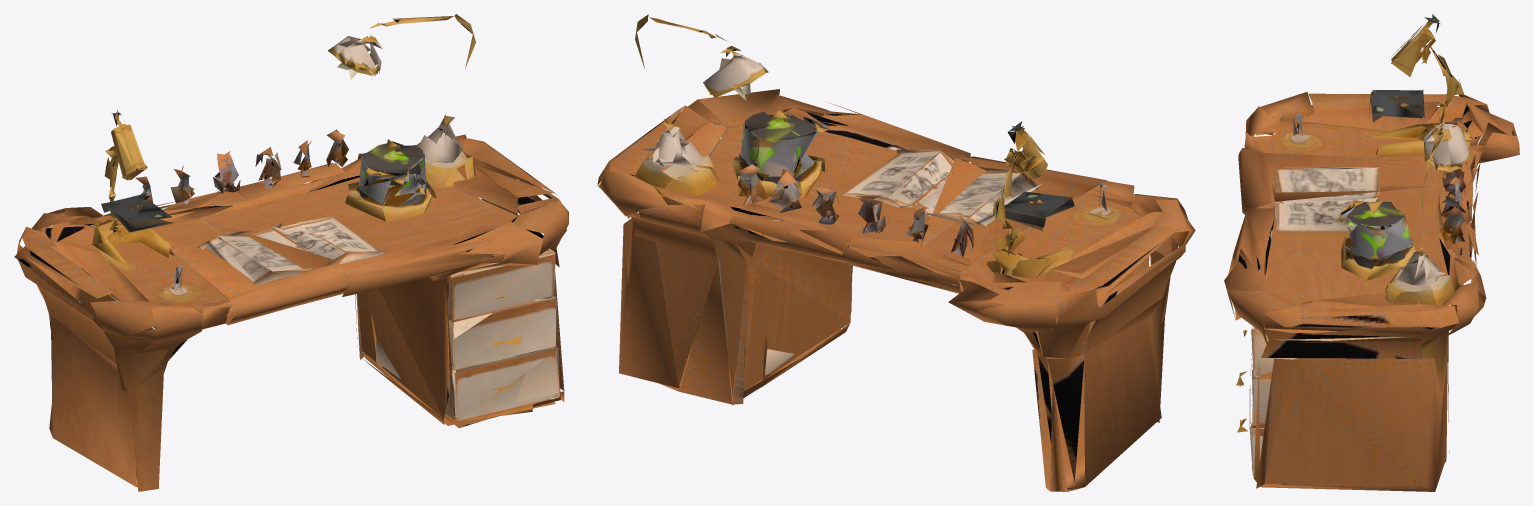
File: research-station.lod1.glb
3 views of the same model, side by side, from view 1: azimuth 30°, elevation 25°; view 2: azimuth 150°, elevation 25°; view 3: azimuth 270°, elevation 25° (orthographic). The views are drawn at different scales.
Visible parts, largest first — view 1: research-station; view 2: research-station; view 3: research-station.
Part boxes in pixels (box(x1,y1,x2,y2)): research-station: box(14, 14, 568, 491); research-station: box(597, 14, 1195, 491); research-station: box(1224, 14, 1519, 491).
Size of the model in its own units: 1.61 by 1.1 by 0.9102.
Materials: 1 (1 with a texture image).
